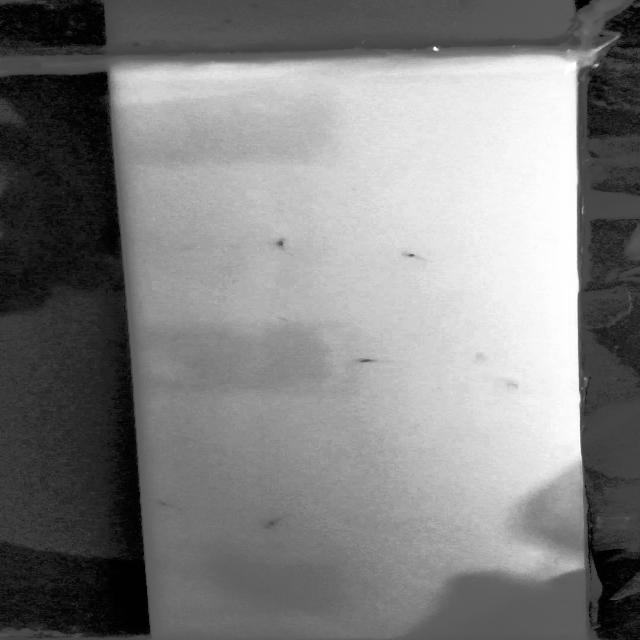shrimp: (257, 511, 300, 538), (404, 246, 444, 262), (268, 232, 294, 256), (348, 352, 397, 364), (154, 497, 196, 510)
